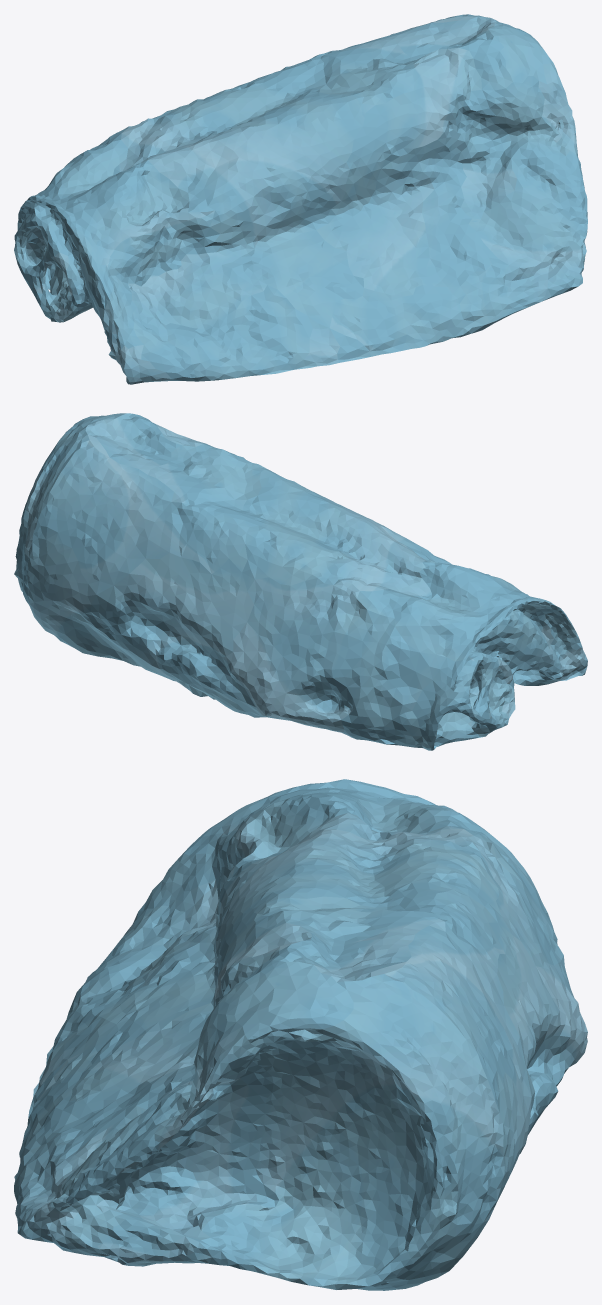
The model's file is cola.fbx.
3 renders of one model, top to bottom at view 1: azimuth 30°, elevation 25°; view 2: azimuth 150°, elevation 25°; view 3: azimuth 270°, elevation 25°, orthographic. The views are drawn at different scales.
Parts seen in each view (by area): view 1: Mesh_0; view 2: Mesh_0; view 3: Mesh_0.
Part boxes in pixels (bbox=[...]): Mesh_0: bbox=[14, 14, 587, 384]; Mesh_0: bbox=[14, 413, 587, 750]; Mesh_0: bbox=[14, 779, 587, 1290].
Bounding box in the file's own units: 12.59 × 5.07 × 8.48.
